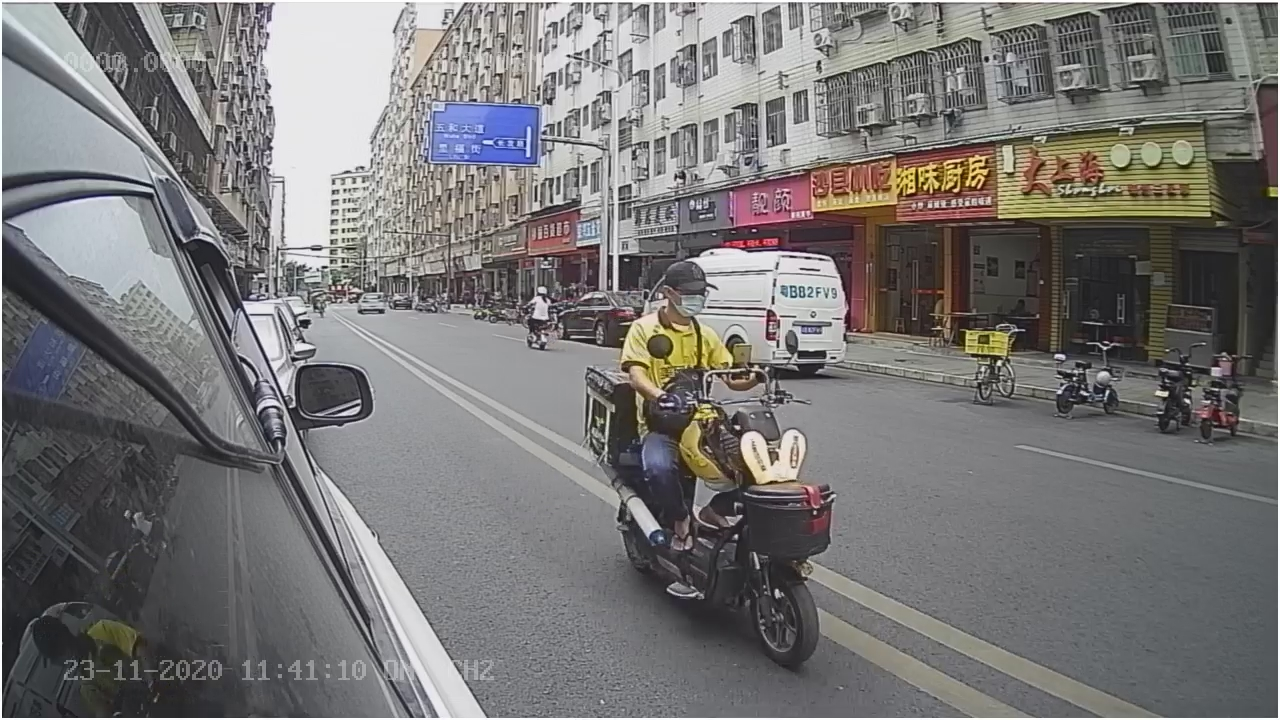person: (623, 260, 729, 370)
